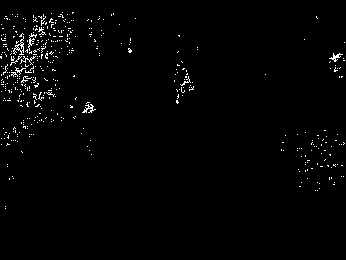person: (172, 60, 193, 105)
